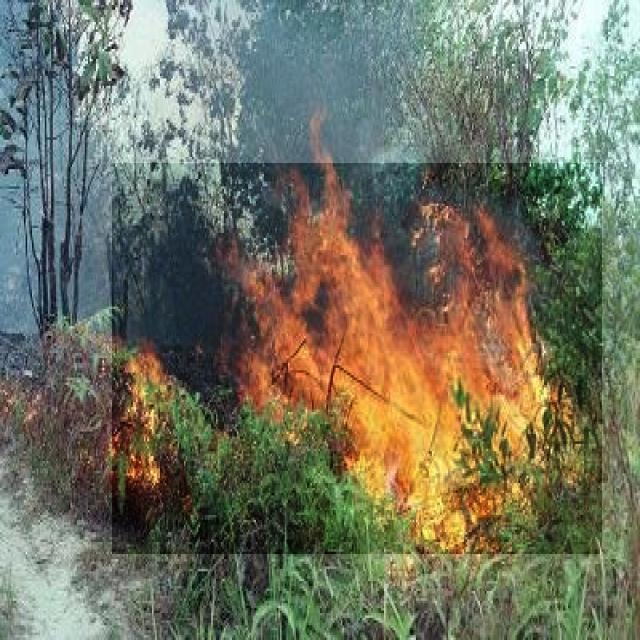Fire: (112, 163, 602, 554)
